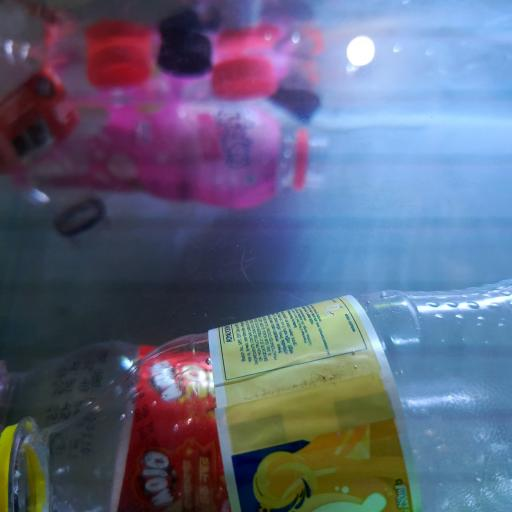bottle_cap: (88, 28, 152, 89), (270, 70, 322, 124), (158, 28, 212, 78), (212, 60, 276, 102)
plastic_bottle: (0, 273, 512, 512), (0, 332, 488, 512), (5, 88, 331, 210), (2, 28, 114, 249)
